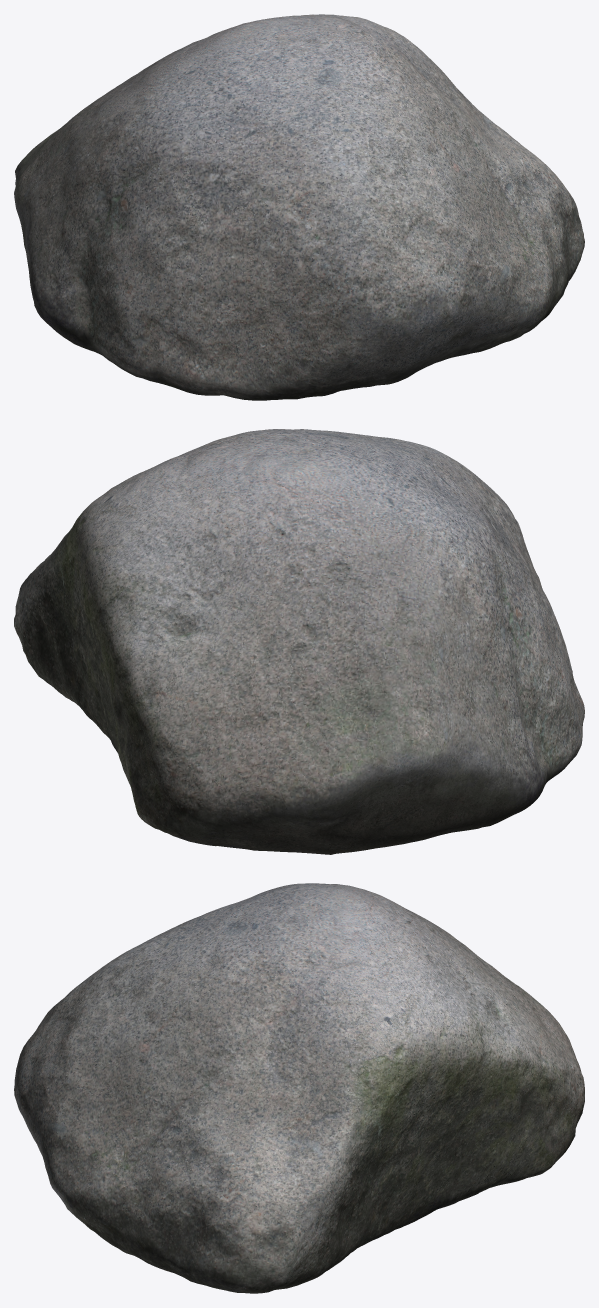
Rendered from Stone5ok17.obj.
3 renders of one model, top to bottom at view 1: azimuth 30°, elevation 25°; view 2: azimuth 150°, elevation 25°; view 3: azimuth 270°, elevation 25°, orthographic. The views are drawn at different scales.
Parts seen in each view (by area): view 1: Stone5ok17_001; view 2: Stone5ok17_001; view 3: Stone5ok17_001.
Boxes of the visible parts, box(x1,y1,x2,y2) form: Stone5ok17_001: box(14, 14, 584, 400); Stone5ok17_001: box(14, 429, 584, 854); Stone5ok17_001: box(14, 883, 584, 1293).
Size of the model in its own units: 1412 by 729 by 1399.
1 material, 1 textured.
